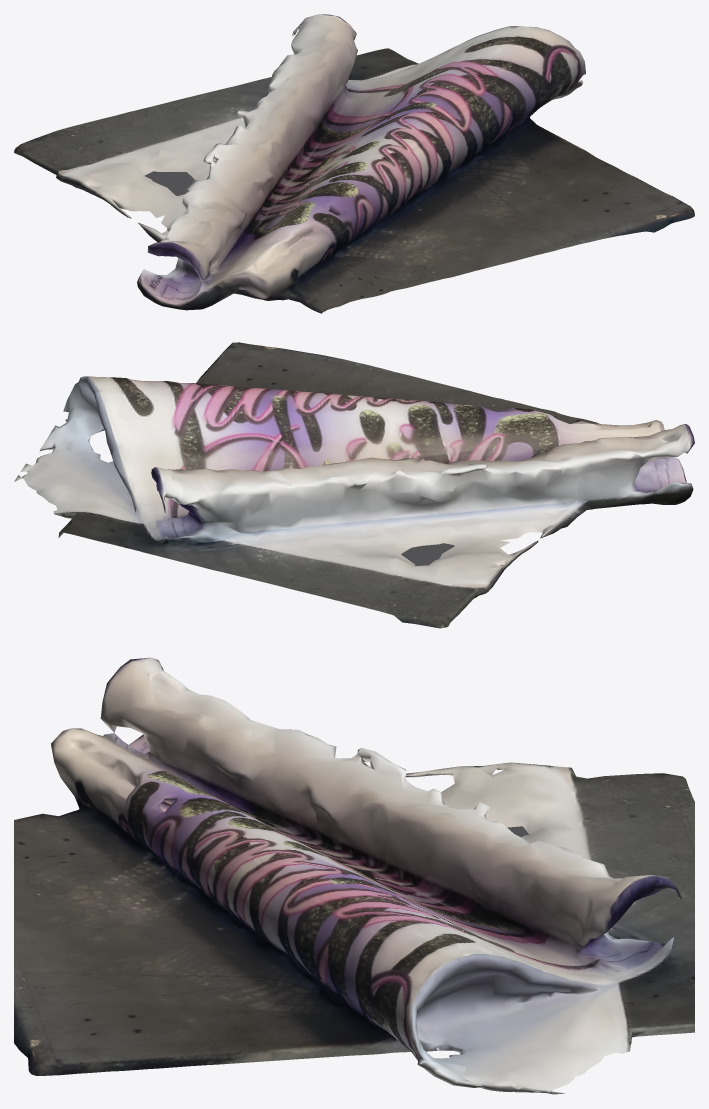
File: 3DModel_LowPoly.obj
3 views of the same model, one above another, from view 1: azimuth 30°, elevation 25°; view 2: azimuth 150°, elevation 25°; view 3: azimuth 270°, elevation 25° (orthographic). The views are drawn at different scales.
Visible parts, largest first — view 1: grp1; view 2: grp1; view 3: grp1.
Boxes of the visible parts, box(x1,y1,x2,y2) form: grp1: box(14, 14, 694, 313); grp1: box(14, 342, 694, 628); grp1: box(14, 657, 694, 1094).
Size of the model in its own units: 3.82 by 0.5361 by 3.04.
1 material, 1 textured.
